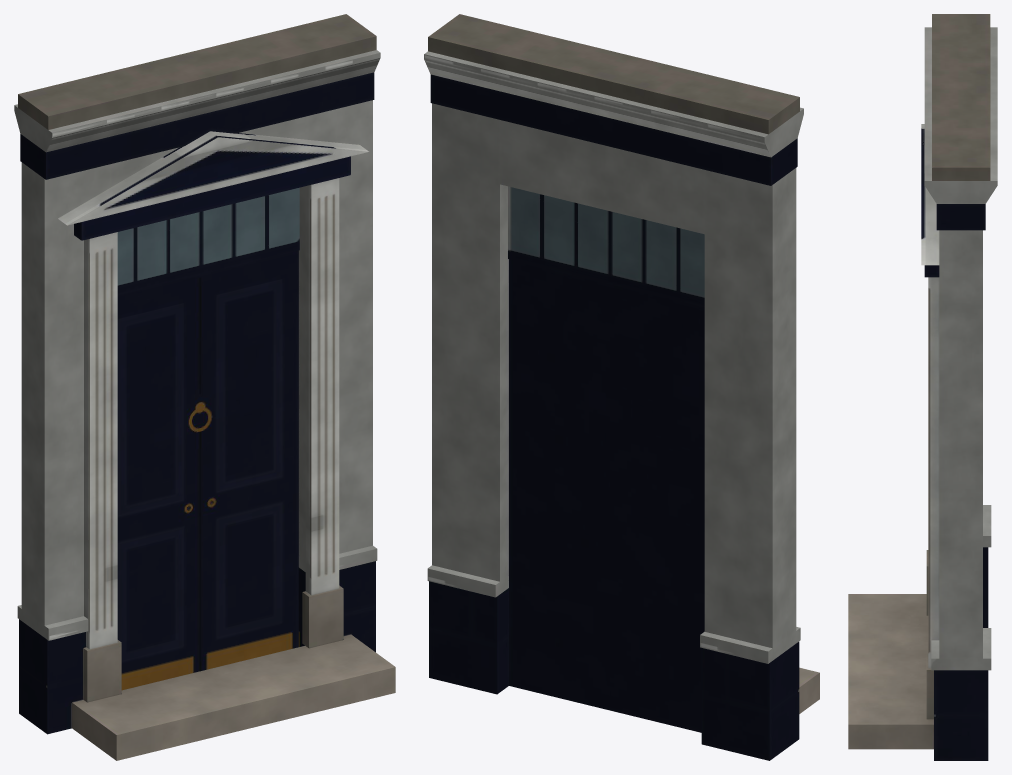
Rendered from charter_door.glb.
The picture shows the model from 3 angles, left to right: view 1: azimuth 30°, elevation 25°; view 2: azimuth 150°, elevation 25°; view 3: azimuth 270°, elevation 25°; orthographic projection. The views are drawn at different scales.
Visible parts, largest first — view 1: charter_door; view 2: charter_door; view 3: charter_door.
Boxes of the visible parts, box(x1,y1,x2,y2) form: charter_door: box(14, 14, 395, 760); charter_door: box(424, 14, 819, 760); charter_door: box(848, 14, 997, 760).
Size of the model in its own units: 2 by 3.6 by 0.82.
Materials: 1 (1 with a texture image).
